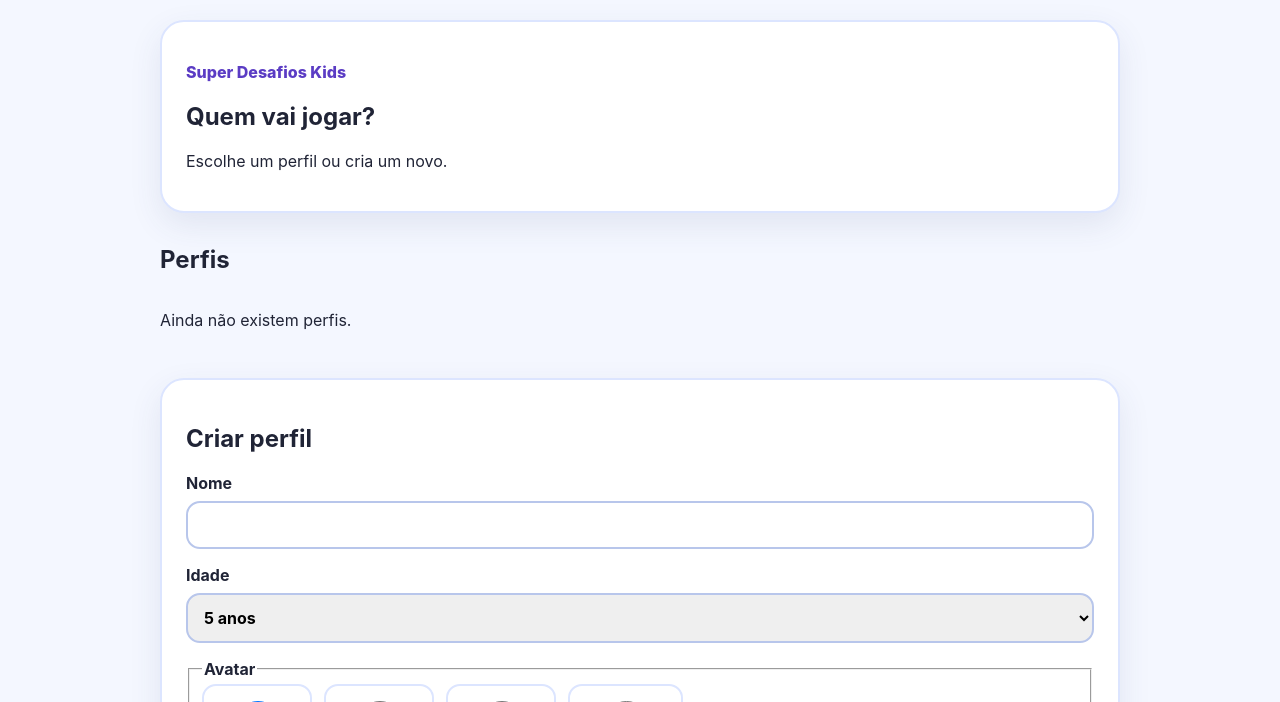
it: ProfileScreen › cria e seleciona um perfil
Type "Tomás" into the field labelled "Nome" at (640, 524), box [186, 500, 1094, 548]
(page scrolled)
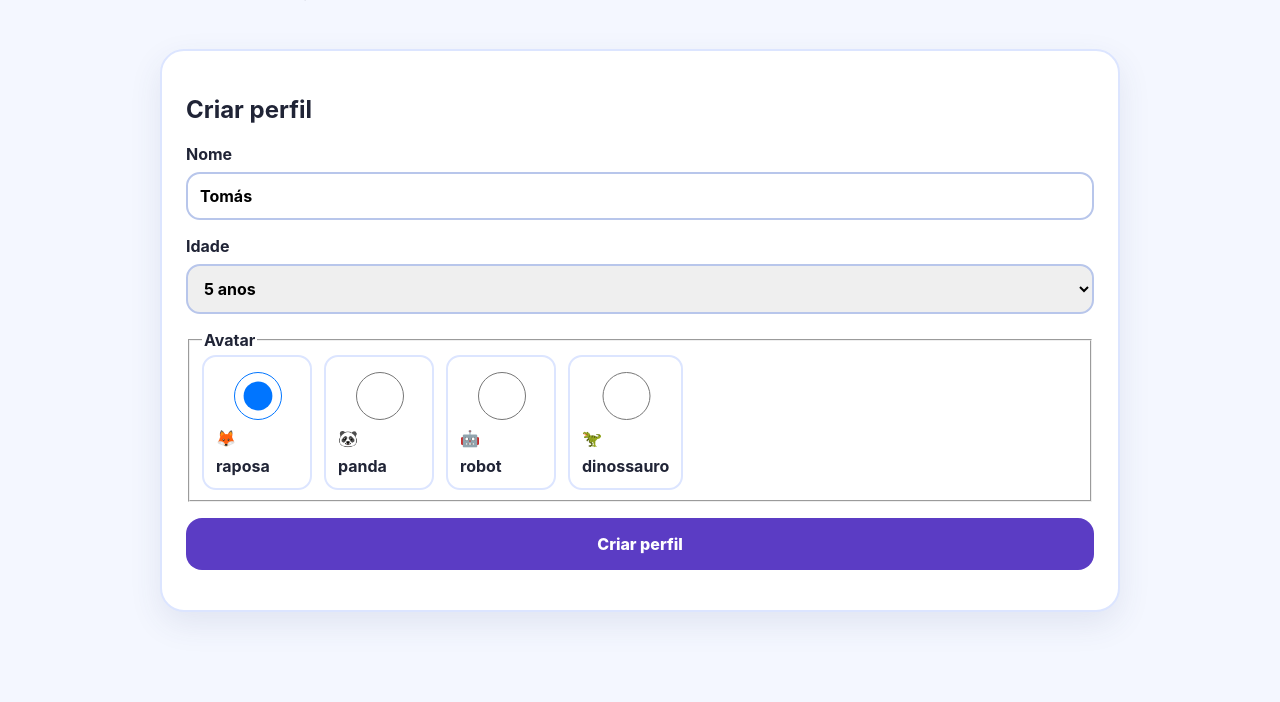
Click the button "Criar perfil" at (640, 544), box [186, 518, 1094, 570]
(page scrolled)
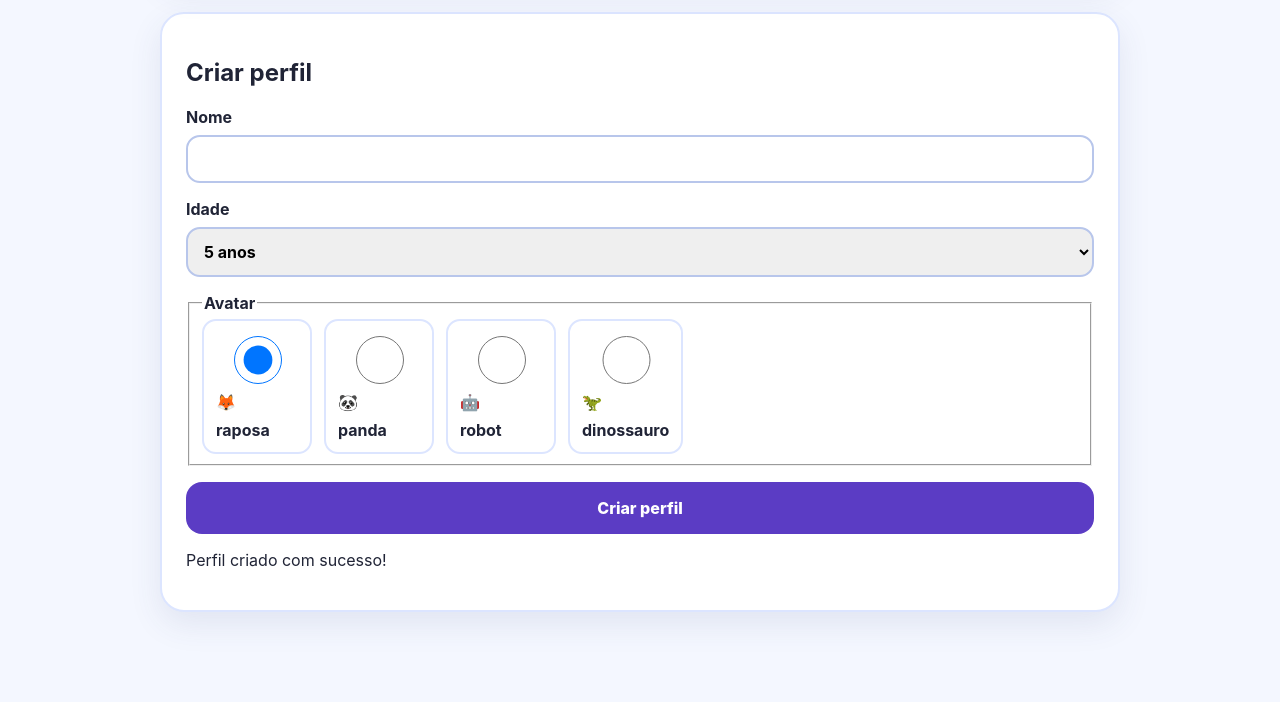
Expected: the text "Perfil criado com sucesso!" is shown, [186, 550, 387, 570]
